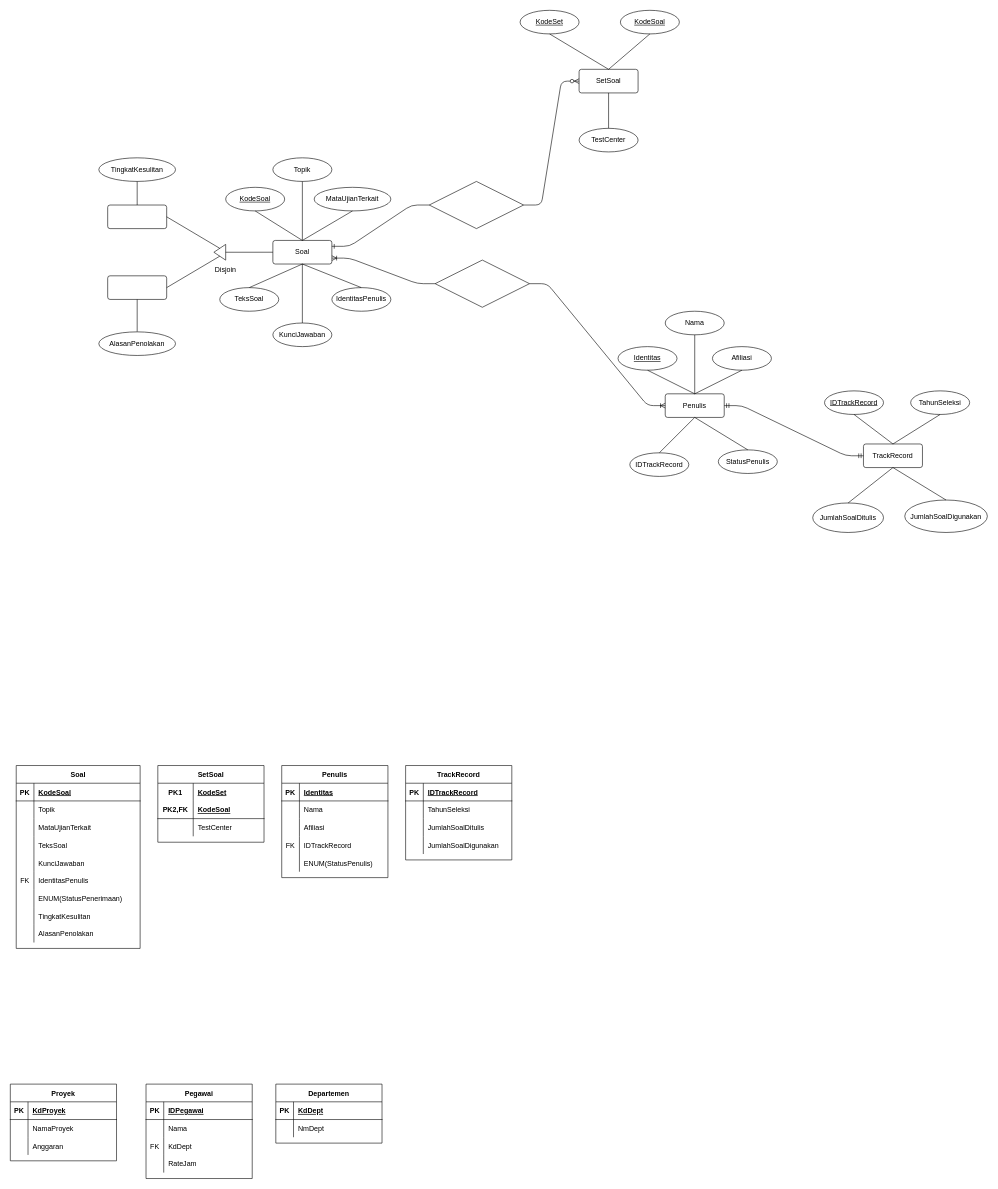
This 998x1189 diagram has some shape labels left out. Each missing label, with the centre of its shape:
"Digunakan di/ Menggunakan" belongs at pixel 476 205.
"Menulis/ Ditulis" belongs at pixel 482 283.
"SoalDiterima" belongs at pixel 137 216.
"SoalDitolak" belongs at pixel 137 287.
